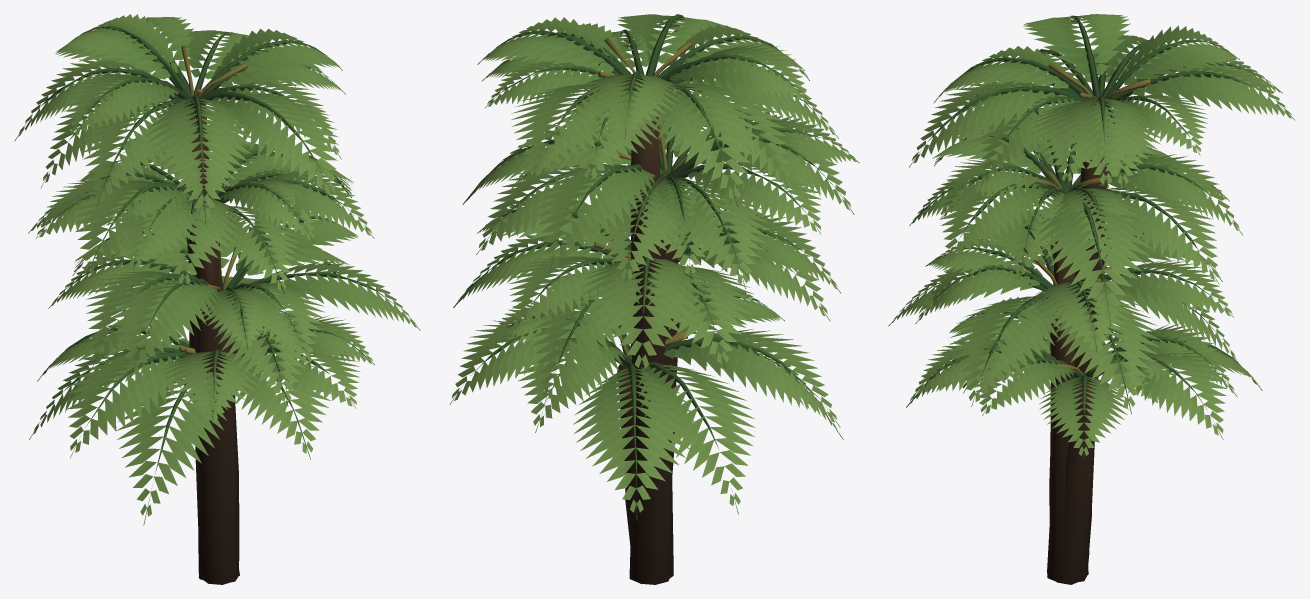
The model's file is treefern.glb.
3 renders of one model, left to right at view 1: azimuth 30°, elevation 25°; view 2: azimuth 150°, elevation 25°; view 3: azimuth 270°, elevation 25°, orthographic. The views are drawn at different scales.
Parts seen in each view (by area): view 1: treefern3, treefern2, treefern1, treefern0; view 2: treefern3, treefern2, treefern0, treefern1; view 3: treefern3, treefern1, treefern2, treefern0.
Part boxes in pixels (left/top/right/bottom): treefern3: left=14, top=14, right=345, bottom=580; treefern2: left=28, top=138, right=374, bottom=584; treefern1: left=48, top=206, right=420, bottom=581; treefern0: left=29, top=276, right=374, bottom=579; treefern3: left=477, top=14, right=838, bottom=584; treefern2: left=462, top=101, right=859, bottom=584; treefern0: left=449, top=271, right=843, bottom=583; treefern1: left=453, top=190, right=841, bottom=405; treefern3: left=909, top=14, right=1295, bottom=582; treefern1: left=888, top=209, right=1239, bottom=581; treefern2: left=909, top=104, right=1242, bottom=580; treefern0: left=906, top=297, right=1262, bottom=584.
Size of the model in its own units: 4.79 by 7.26 by 5.19.
